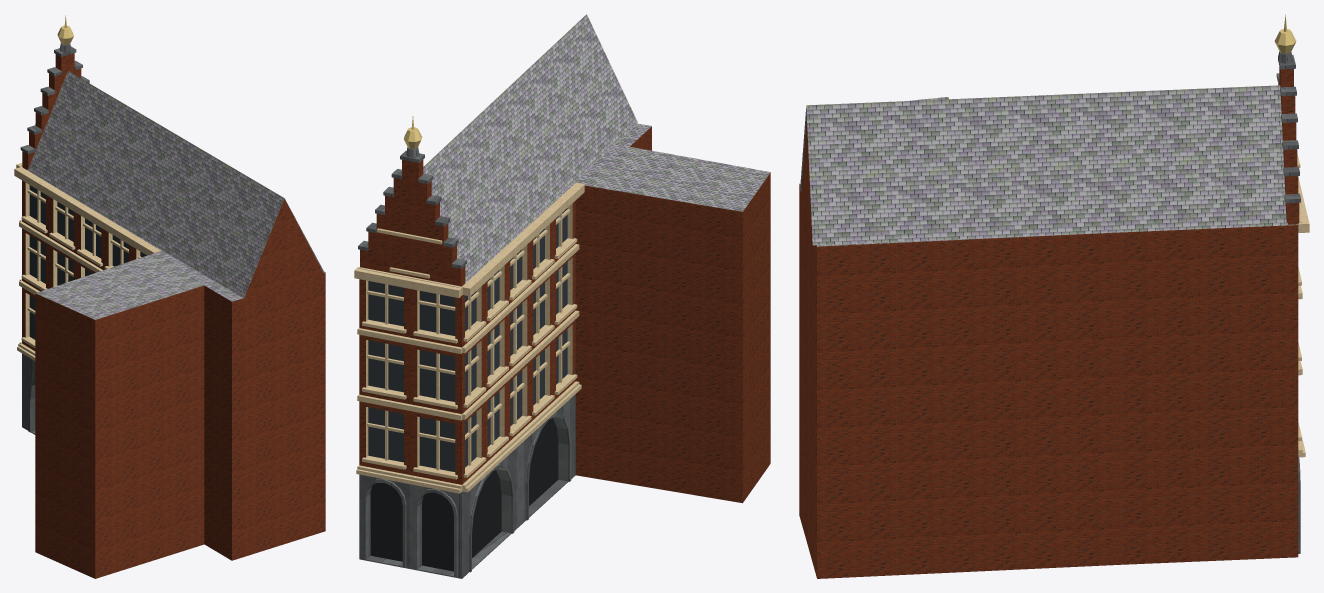
3 renders of one model, left to right at view 1: azimuth 30°, elevation 25°; view 2: azimuth 150°, elevation 25°; view 3: azimuth 270°, elevation 25°, orthographic. The views are drawn at different scales.
Parts seen in each view (by area): view 1: bldg_496944393_landmark; view 2: bldg_496944393_landmark; view 3: bldg_496944393_landmark.
Part boxes in pixels (x1,y1,x2,y2): bldg_496944393_landmark: [14, 15, 325, 578]; bldg_496944393_landmark: [354, 14, 770, 578]; bldg_496944393_landmark: [799, 14, 1309, 578].
Size of the model in its own units: 13.53 by 21.76 by 19.47.
7 materials, 4 textured.
